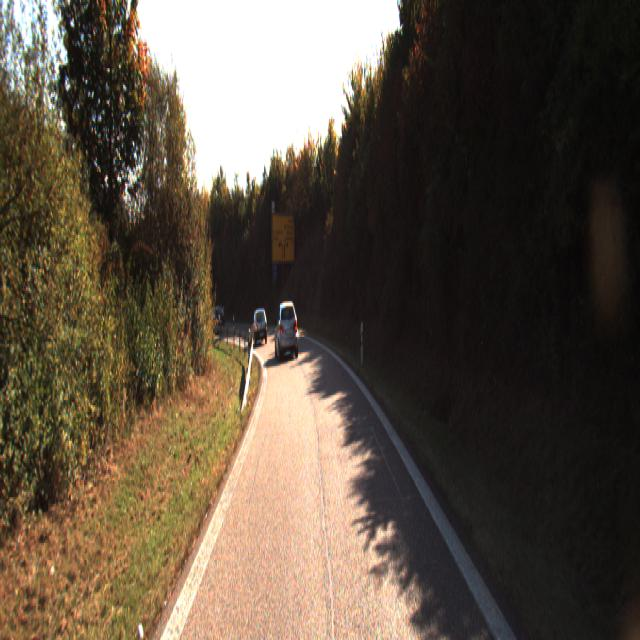Car: (274, 299, 298, 358), (250, 308, 268, 346), (208, 305, 225, 332)
